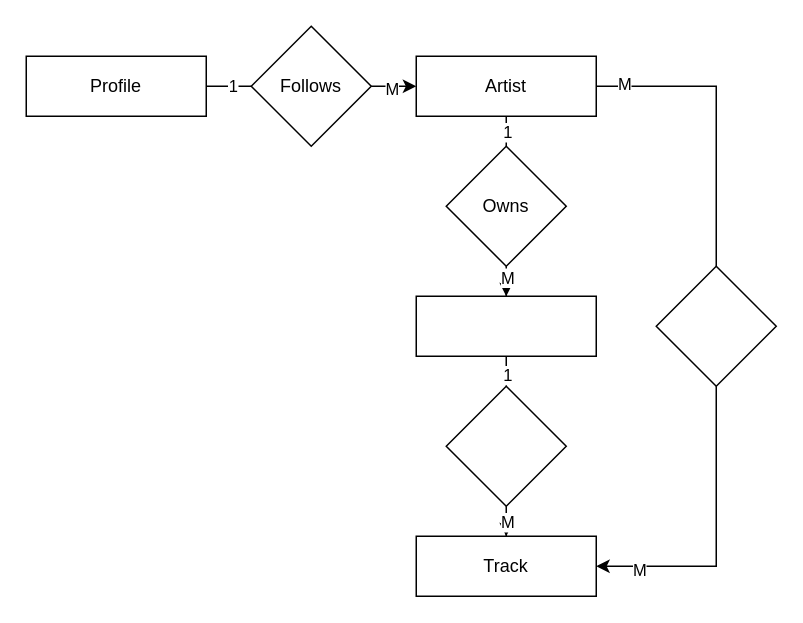
This 803x623 diagram has some shape labels left out. The centre of each missing label's shape, as x and y in pixels:
"Album" goes at pixel 505 325.
"Belongs to" goes at pixel 505 445.
"Role" goes at pixel 715 325.
